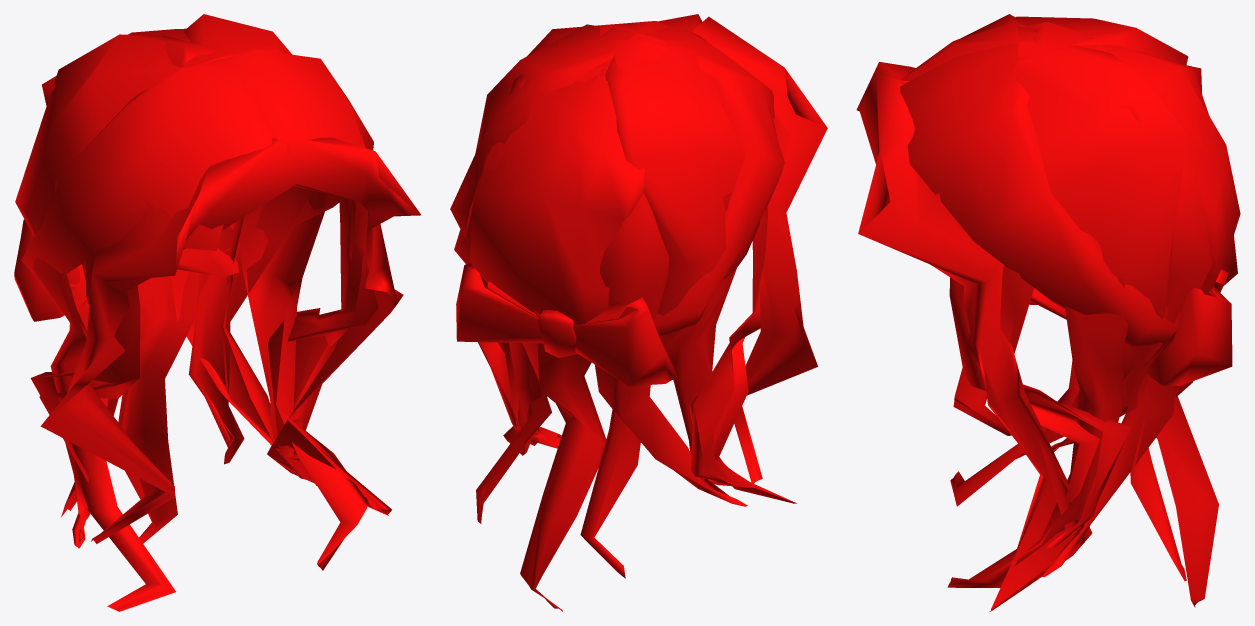
Rendered from grinsegold_wig_bow_tie_F.glb.
The picture shows the model from 3 angles, left to right: view 1: azimuth 30°, elevation 25°; view 2: azimuth 150°, elevation 25°; view 3: azimuth 270°, elevation 25°; orthographic projection. The views are drawn at different scales.
Size of the model in its own units: 0.2234 by 0.3335 by 0.2019.
Materials: 1 (1 with a texture image).
